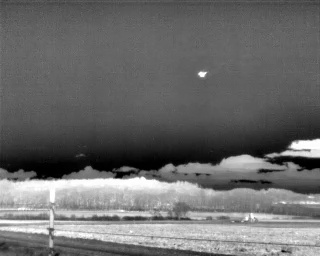DRONE: (195, 67, 211, 81)
